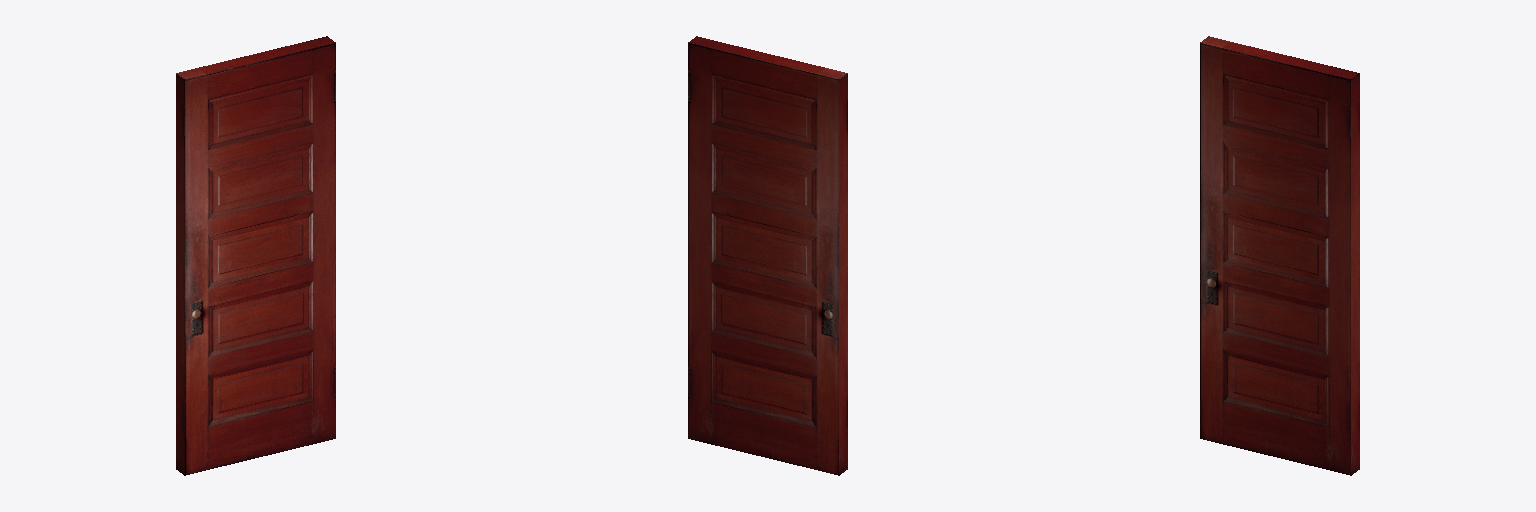
The picture shows the model from 3 angles: view 1: azimuth 30°, elevation 25°; view 2: azimuth 150°, elevation 25°; view 3: azimuth 330°, elevation 25°; orthographic projection.
Visible parts, largest first — view 1: Cube; view 2: Cube; view 3: Cube.
Part boxes in pixels (bbox=[...]): Cube: bbox=[176, 36, 335, 475]; Cube: bbox=[688, 36, 847, 475]; Cube: bbox=[1200, 36, 1359, 475].
Size of the model in its own units: 1 by 2.5 by 0.1.
Materials: 1 (1 with a texture image).